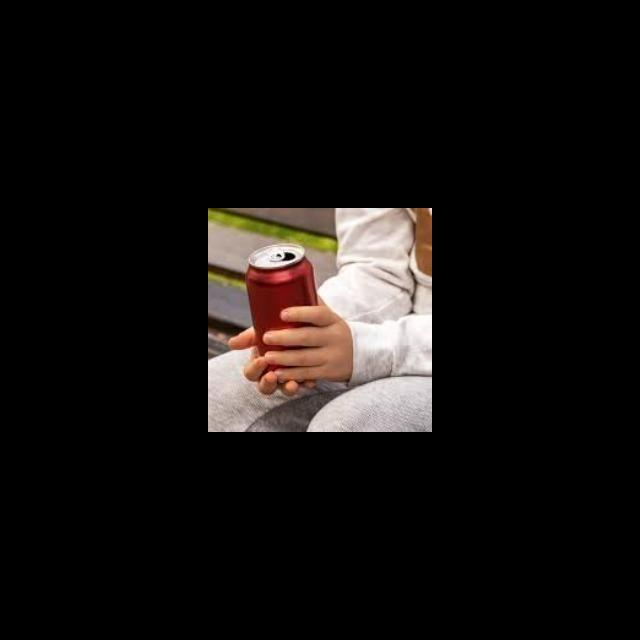metal: (238, 238, 334, 403)
